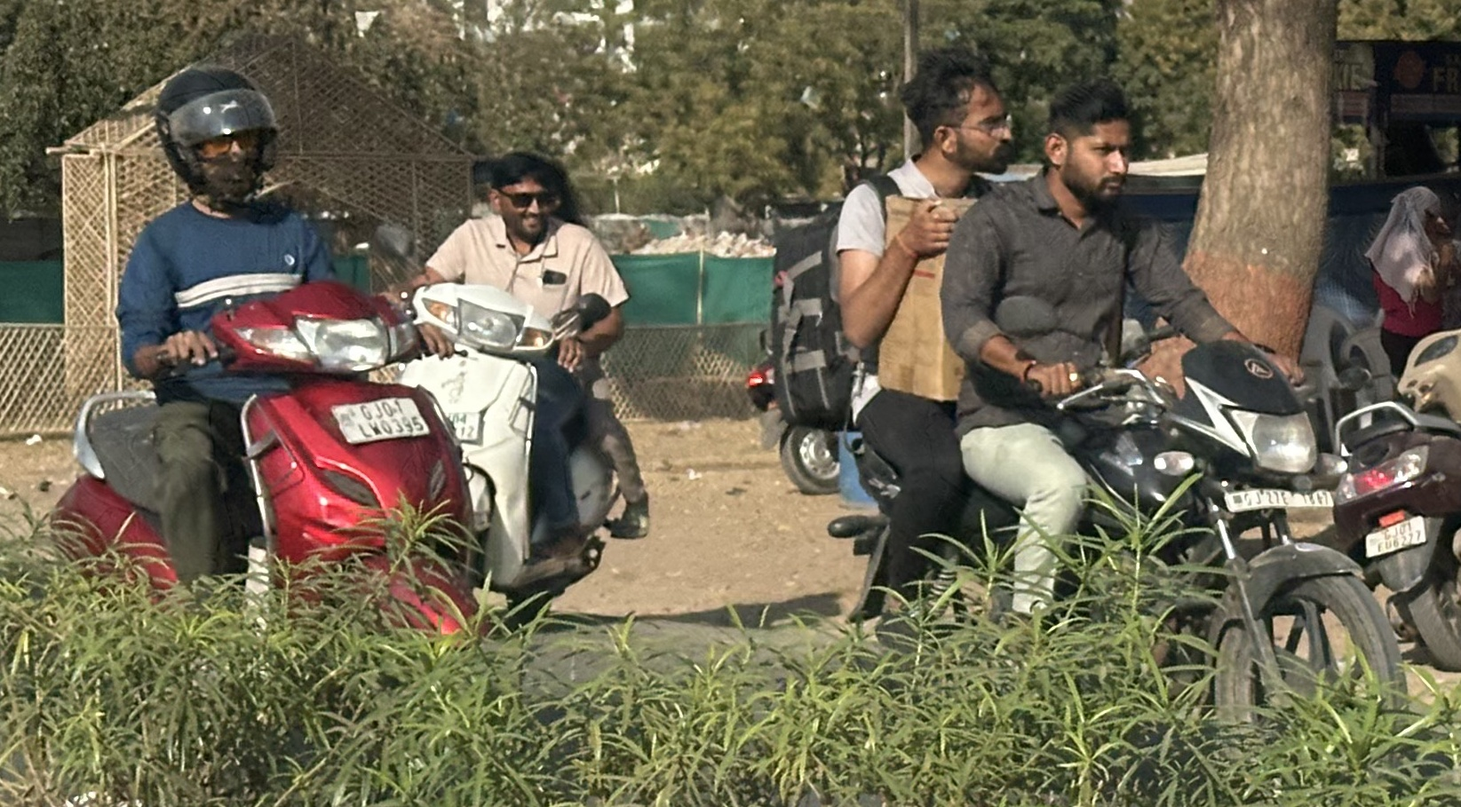BikeWithRider: (758, 52, 1440, 735), (36, 63, 493, 659), (393, 143, 649, 618)
Helmet: (149, 65, 290, 214)
NoHelmet: (901, 58, 1023, 186), (1043, 75, 1151, 210), (495, 150, 560, 246)
